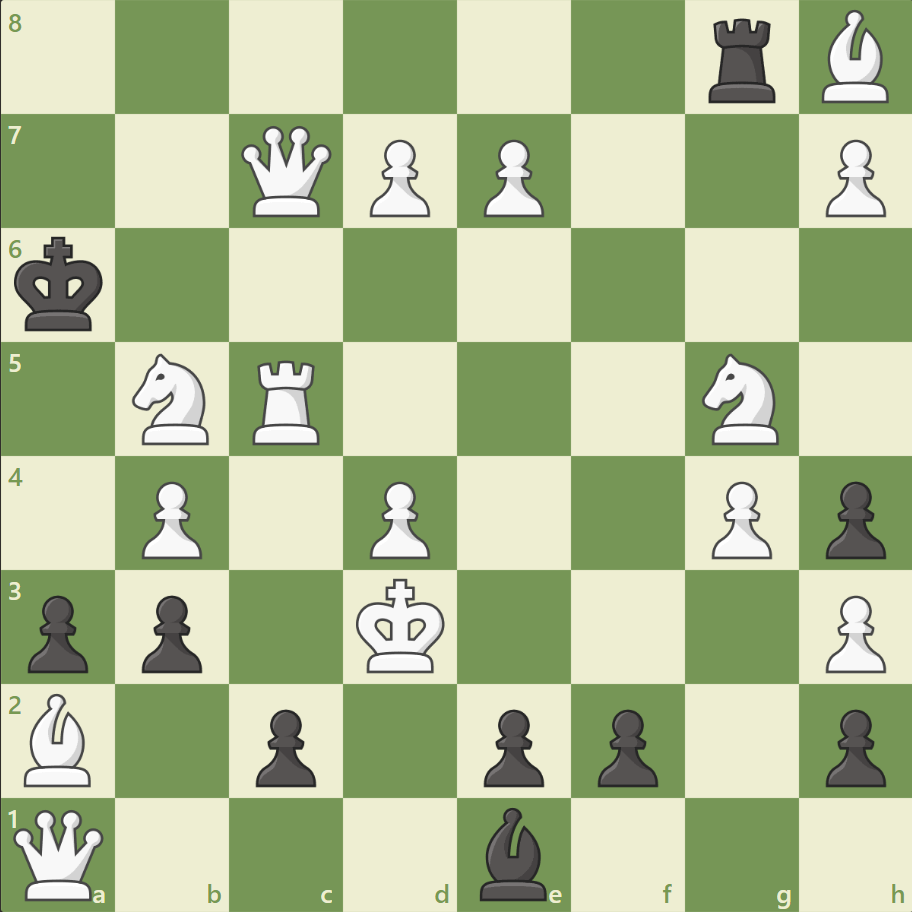B: (812, 6, 896, 109), (17, 687, 101, 790)
K: (351, 571, 451, 679)
N: (124, 348, 222, 450), (692, 348, 789, 450)
P: (474, 132, 549, 223), (133, 473, 208, 564), (701, 473, 776, 564), (361, 132, 435, 223), (815, 132, 889, 223), (361, 473, 435, 564), (815, 586, 889, 677)
Q: (237, 122, 336, 222), (10, 804, 109, 903)
R: (246, 352, 329, 449)
b: (471, 801, 555, 904)
k: (11, 231, 111, 339)
p: (20, 586, 95, 677), (133, 586, 208, 677), (247, 700, 322, 791), (474, 700, 549, 791), (815, 473, 889, 564), (588, 700, 662, 791), (815, 700, 889, 791)
r: (700, 12, 783, 109)
